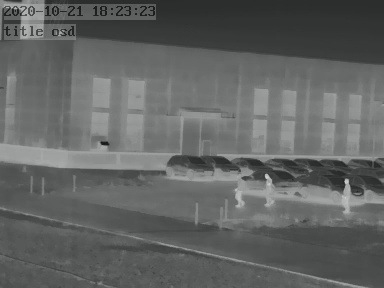person: (262, 173, 276, 208), (341, 176, 352, 215), (234, 173, 245, 209)
vehicle: (300, 175, 364, 200), (239, 170, 298, 196), (165, 153, 212, 178), (348, 171, 380, 205), (204, 153, 242, 177), (232, 156, 269, 172), (263, 157, 299, 172), (347, 157, 376, 170), (317, 157, 345, 170), (297, 156, 324, 169)
